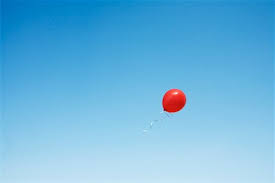Balloon: (161, 88, 187, 114)
